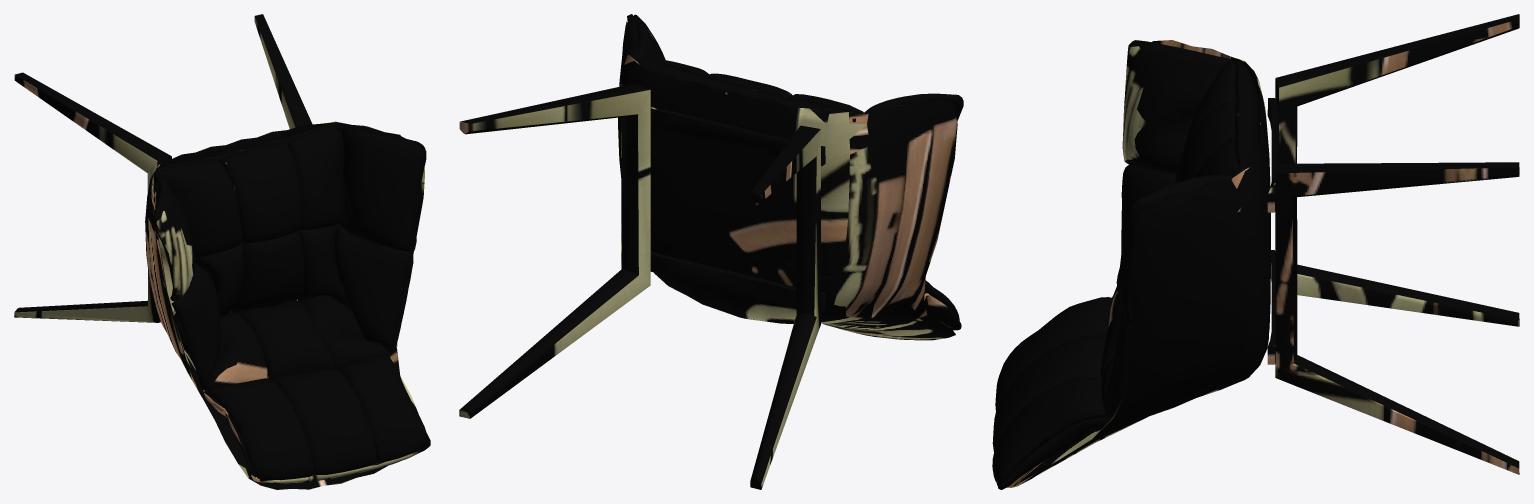
The picture shows the model from 3 angles, left to right: view 1: azimuth 30°, elevation 25°; view 2: azimuth 150°, elevation 25°; view 3: azimuth 270°, elevation 25°; orthographic projection. The views are drawn at different scales.
Size of the model in its own units: 0.6277 by 0.6391 by 0.8272.
